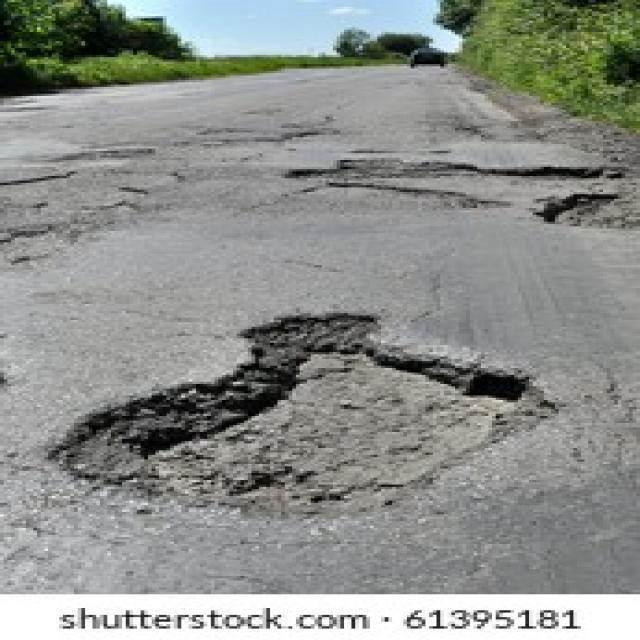Pothole: (48, 313, 559, 524), (284, 158, 636, 183), (532, 189, 640, 228)
